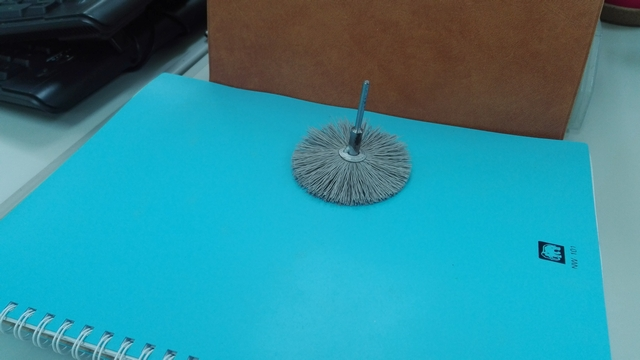TOOL: (264, 77, 438, 212), (285, 108, 415, 208)
